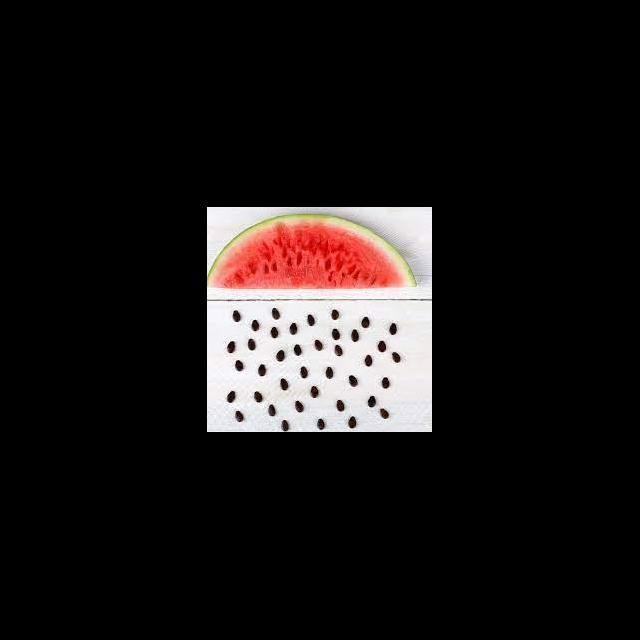watermelon: (208, 212, 418, 290)
